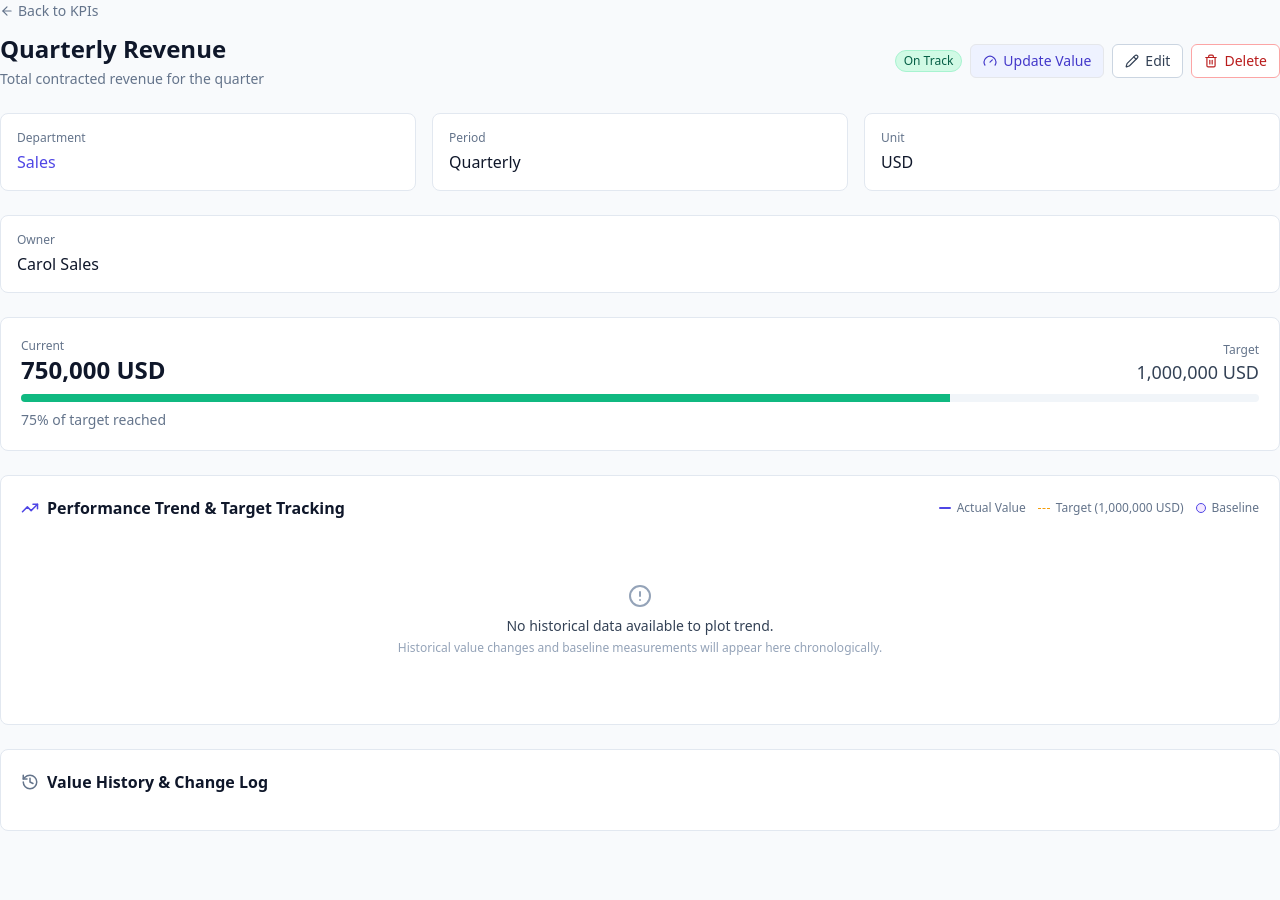
Scenario: KpiDetailPage Integration Tests › Higher-is-better vs Lower-is-better Rule Support › prefills higher_is_better in edit modal for revenue KPI
Check: the heading "Quarterly Revenue" is shown, box 0,33 -> 264,65
Click the button "Edit" at x=1148, y=61, box 1112,44 -> 1184,78
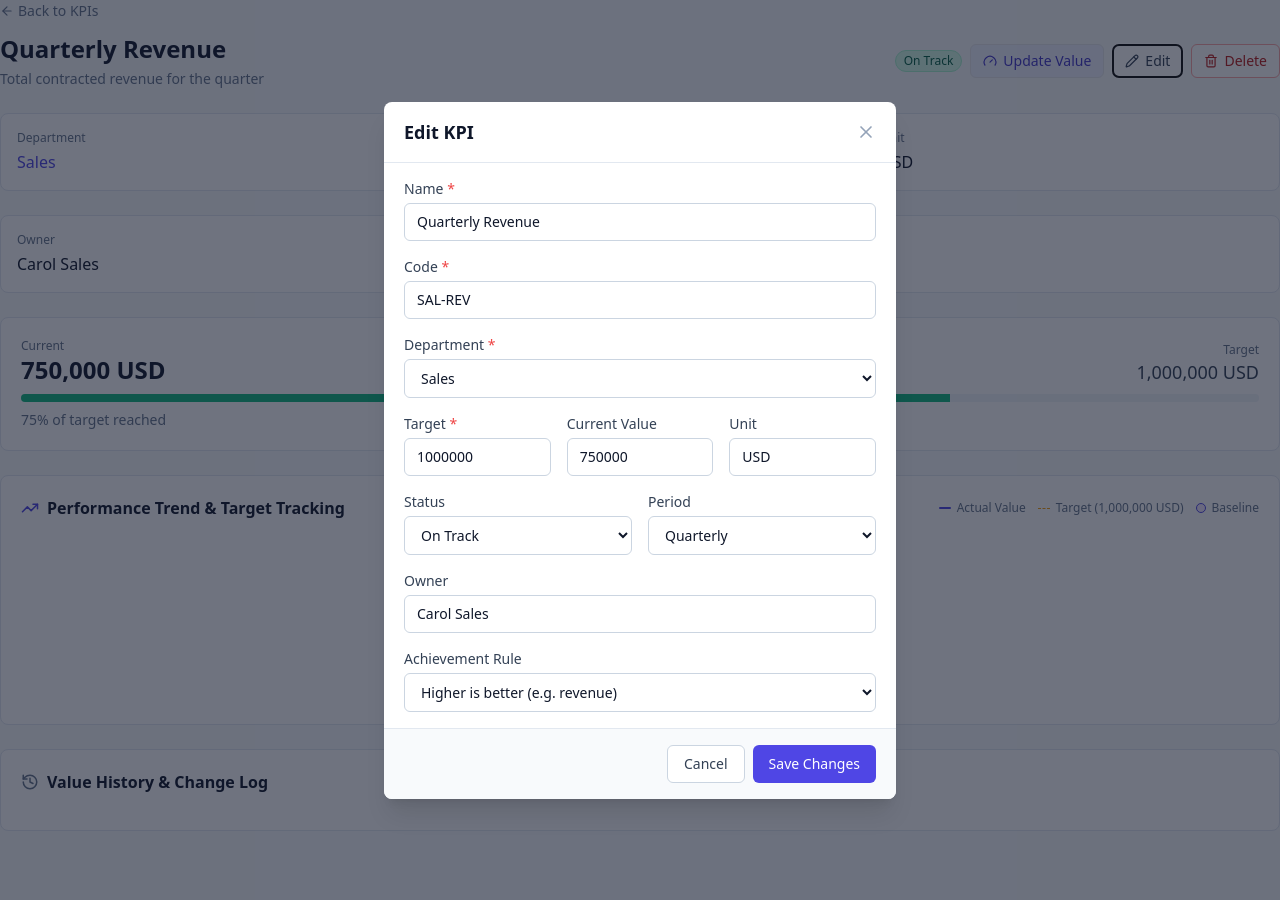
Check: the heading "Edit KPI" is shown, box 404,118 -> 474,146
Check: the dropdown labelled "Achievement Rule" shows "Higher is better (e.g. revenue)", box 404,672 -> 876,712
